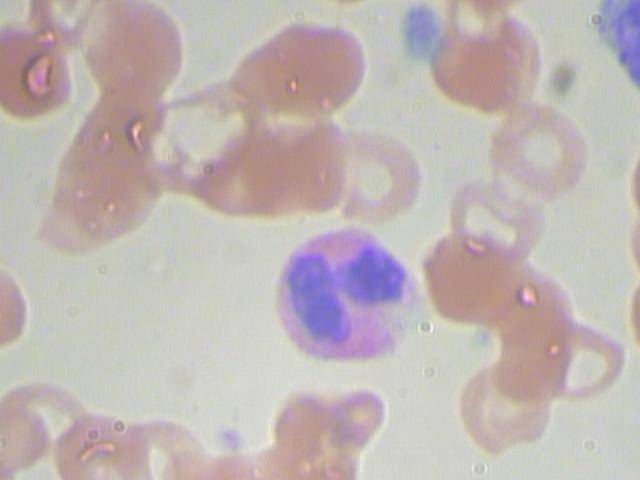RBC: (228, 17, 373, 116), (484, 95, 597, 210), (427, 14, 549, 117), (48, 138, 161, 238), (79, 1, 192, 100), (453, 360, 565, 458), (446, 176, 552, 269), (324, 129, 430, 222), (46, 406, 160, 480), (1, 21, 80, 122), (194, 140, 286, 216), (537, 325, 629, 401), (1, 377, 92, 453)
